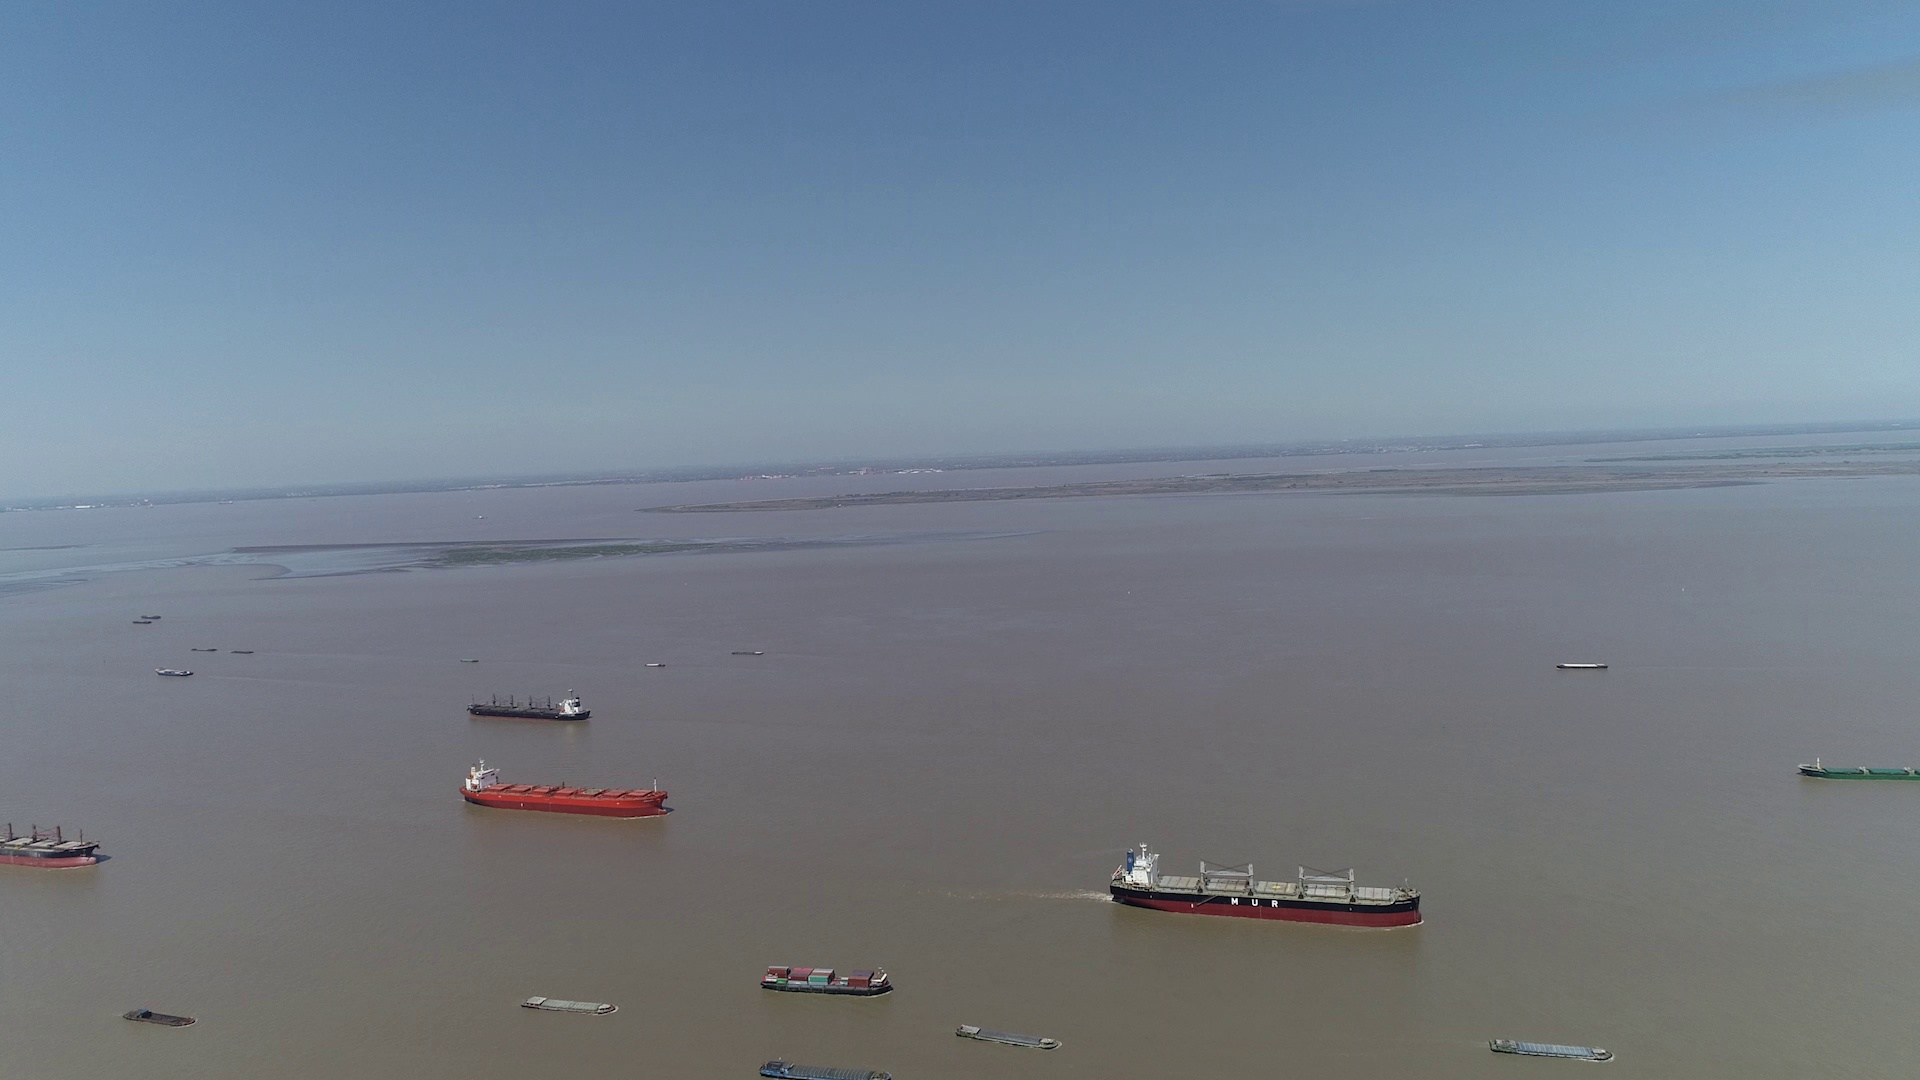ship: (1109, 843, 1422, 928), (462, 757, 667, 818), (1, 808, 102, 868), (761, 964, 894, 997), (468, 690, 592, 723), (1489, 1036, 1614, 1062), (761, 1059, 891, 1080), (1797, 760, 1919, 782), (956, 1023, 1062, 1048), (520, 996, 617, 1015), (125, 1010, 196, 1027), (1555, 662, 1610, 671), (156, 666, 193, 676)
